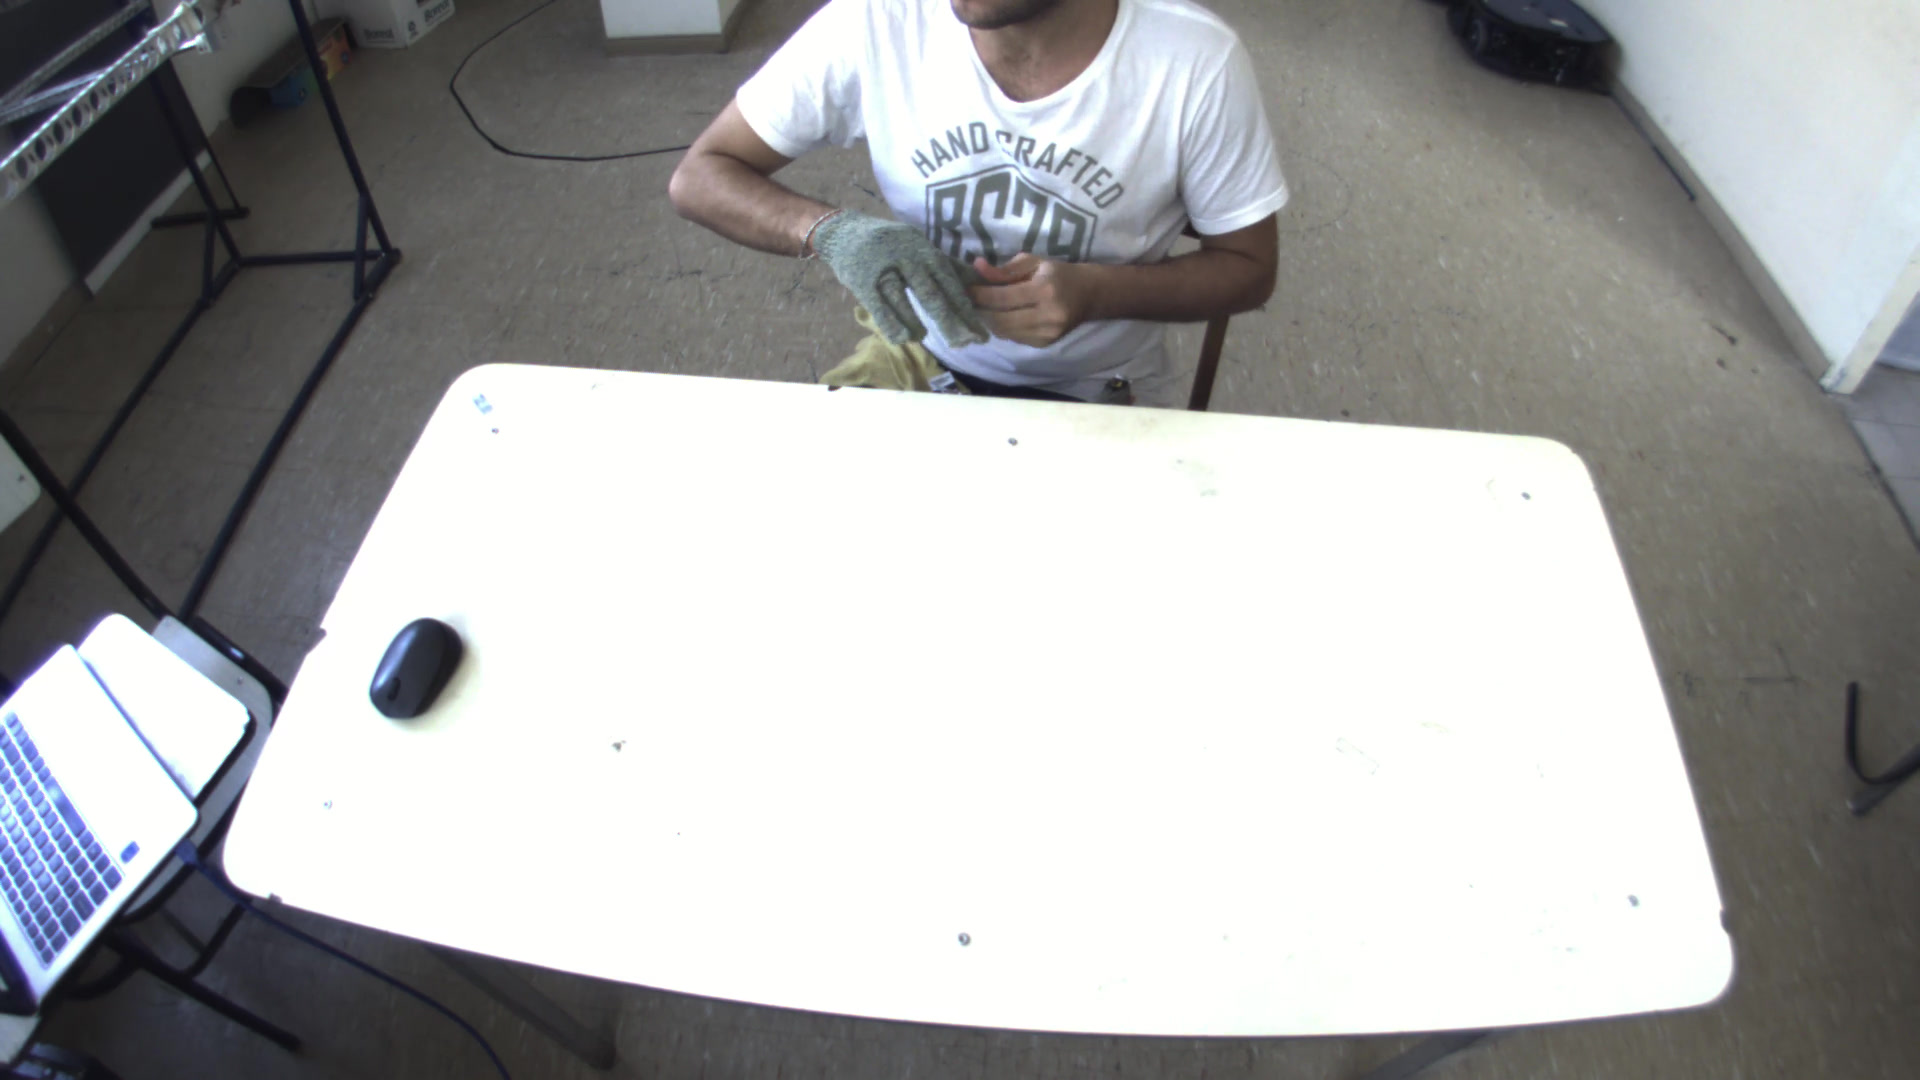hand: (803, 200, 978, 340), (960, 243, 1077, 338)
